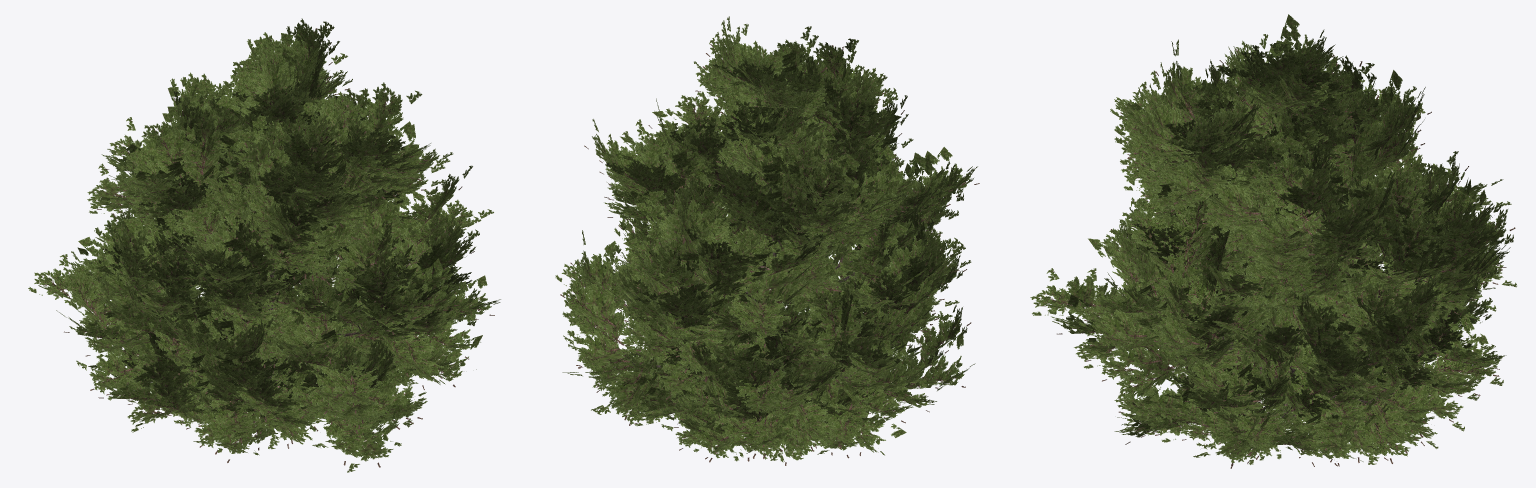
Rendered from shrub.glb.
The picture shows the model from 3 angles, left to right: view 1: azimuth 30°, elevation 25°; view 2: azimuth 150°, elevation 25°; view 3: azimuth 270°, elevation 25°; orthographic projection. The views are drawn at different scales.
Visible parts, largest first — view 1: shrub; view 2: shrub; view 3: shrub.
Part boxes in pixels (x1,y1,x2,y2): shrub: [28, 18, 500, 472]; shrub: [555, 16, 979, 465]; shrub: [1030, 14, 1516, 468].
Bounding box in the file's own units: 5.17 × 5 × 5.42.
Materials: 2 (2 with a texture image).
